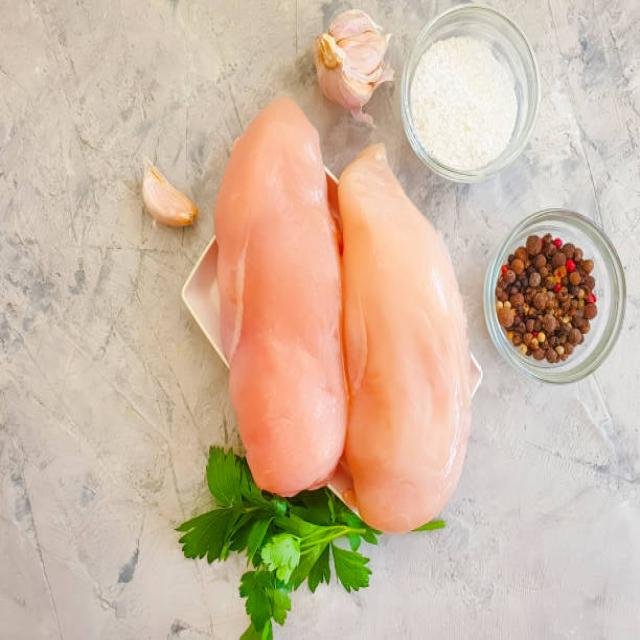Chicken: (338, 140, 478, 544), (205, 101, 330, 497)
